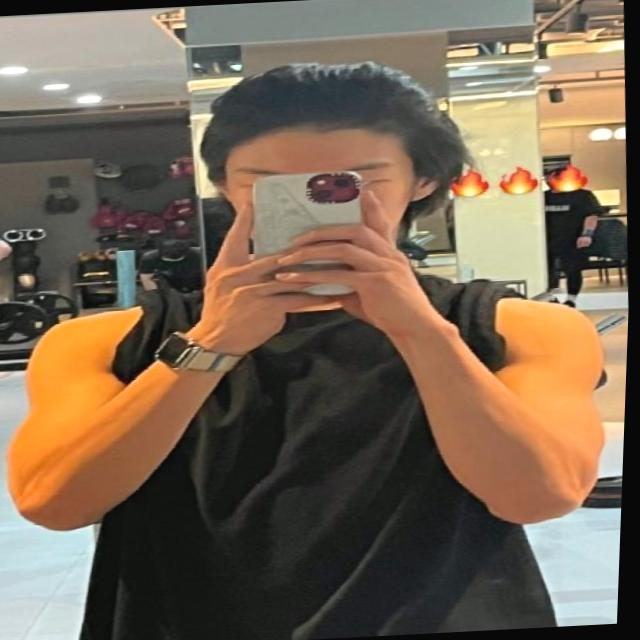Smartphone: (245, 163, 372, 315)
